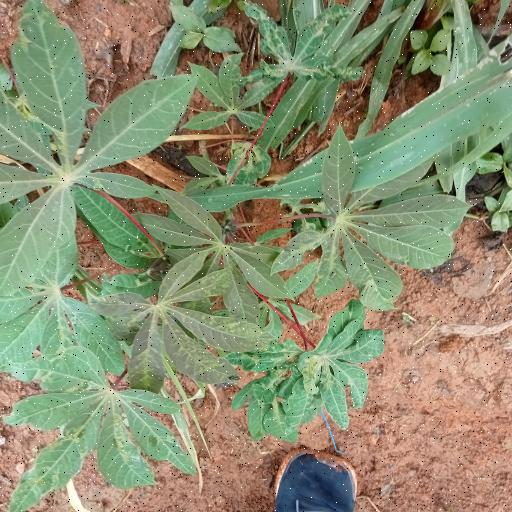Cassava_Mosaic: (280, 131, 465, 305), (2, 352, 182, 508), (107, 260, 263, 386), (234, 308, 378, 439), (238, 2, 367, 88)
